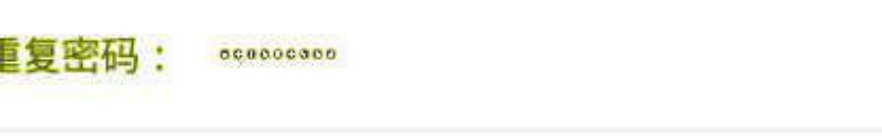EditText: (1, 1, 881, 139)
